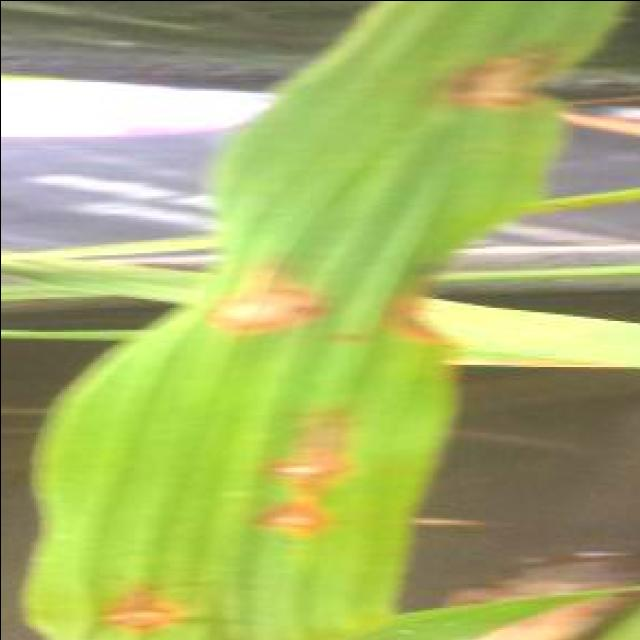Leaf_Blast: (420, 24, 574, 143), (200, 230, 324, 355), (248, 379, 356, 489), (234, 491, 350, 565), (88, 559, 193, 640)
